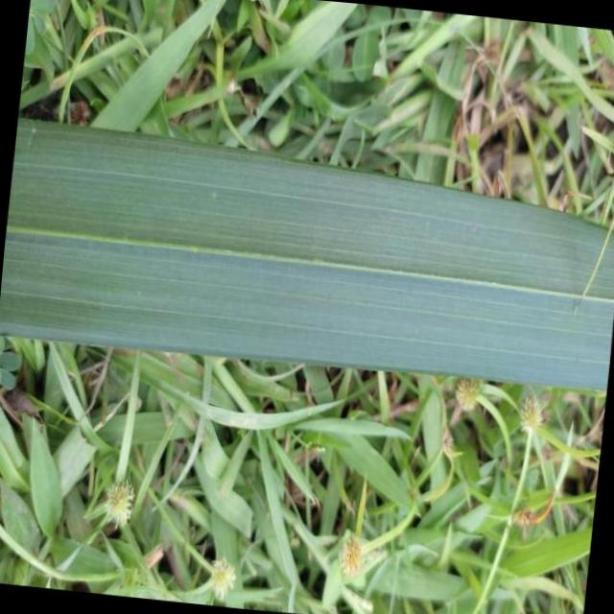Healthy: (3, 118, 614, 398)
